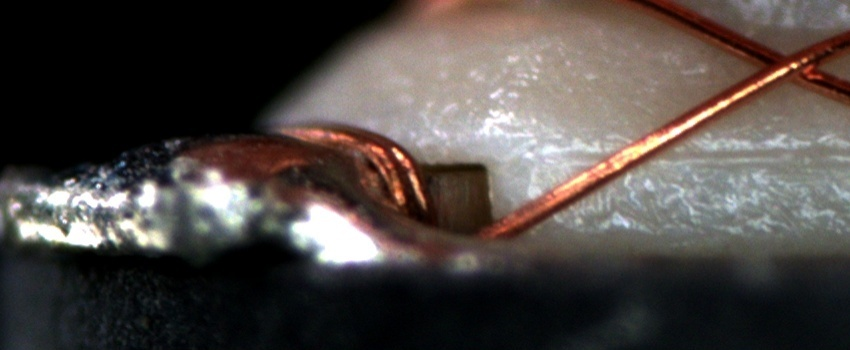CL: (736, 34, 839, 93)
DL: (547, 127, 850, 189)
TE: (272, 114, 437, 227)
